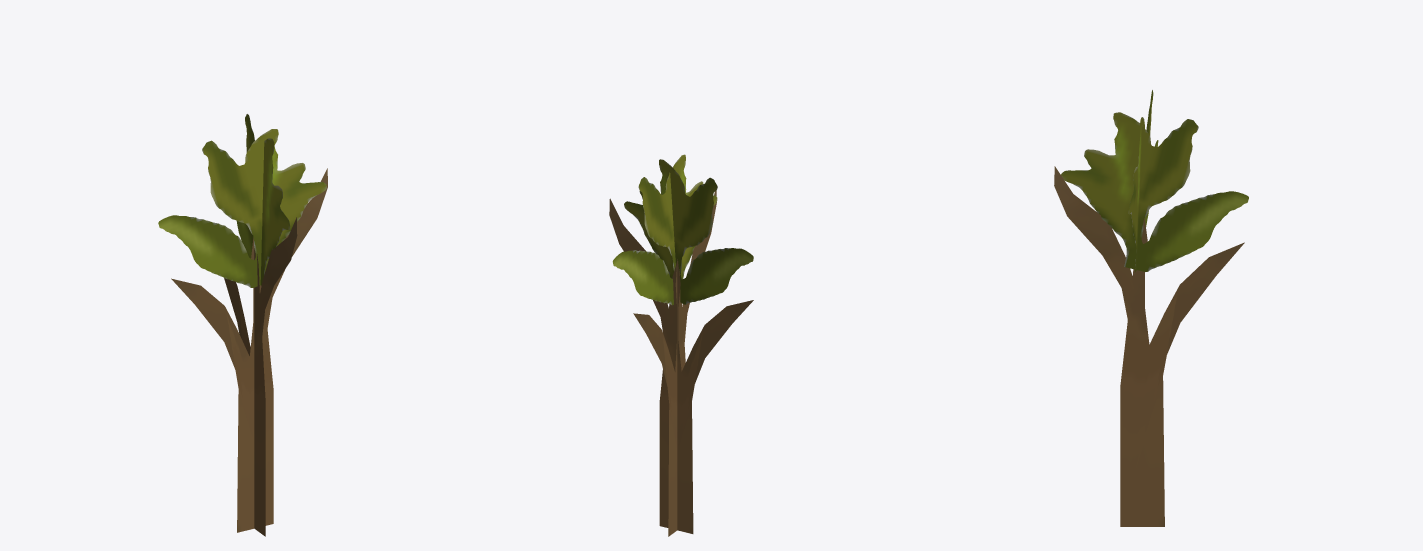
File: Granet_Step01.fbx
3 views of the same model, side by side, from view 1: azimuth 30°, elevation 25°; view 2: azimuth 150°, elevation 25°; view 3: azimuth 270°, elevation 25° (orthographic). The views are drawn at different scales.
Parts seen in each view (by area): view 1: Granet_Step01; view 2: Granet_Step01; view 3: Granet_Step01.
Part boxes in pixels (left/top/right/bottom): Granet_Step01: left=158, top=114, right=327, bottom=536; Granet_Step01: left=609, top=154, right=753, bottom=536; Granet_Step01: left=1054, top=90, right=1248, bottom=526.
Size of the model in its own units: 112 by 120 by 112.
